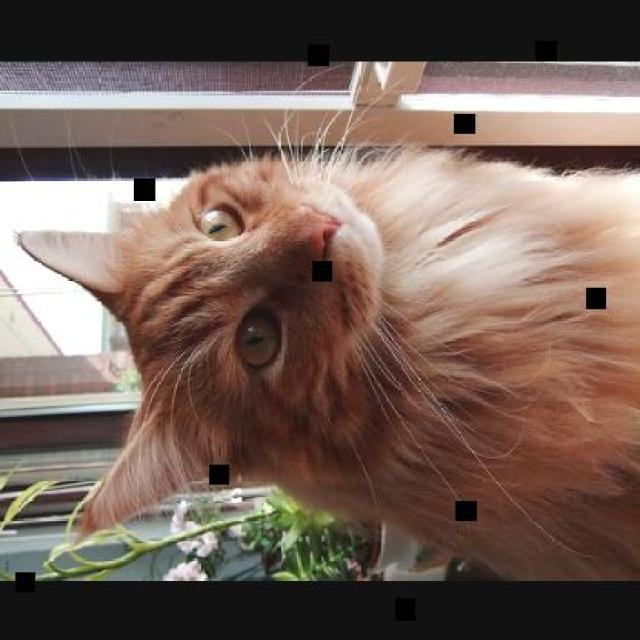unauthorized: (12, 102, 638, 580)
